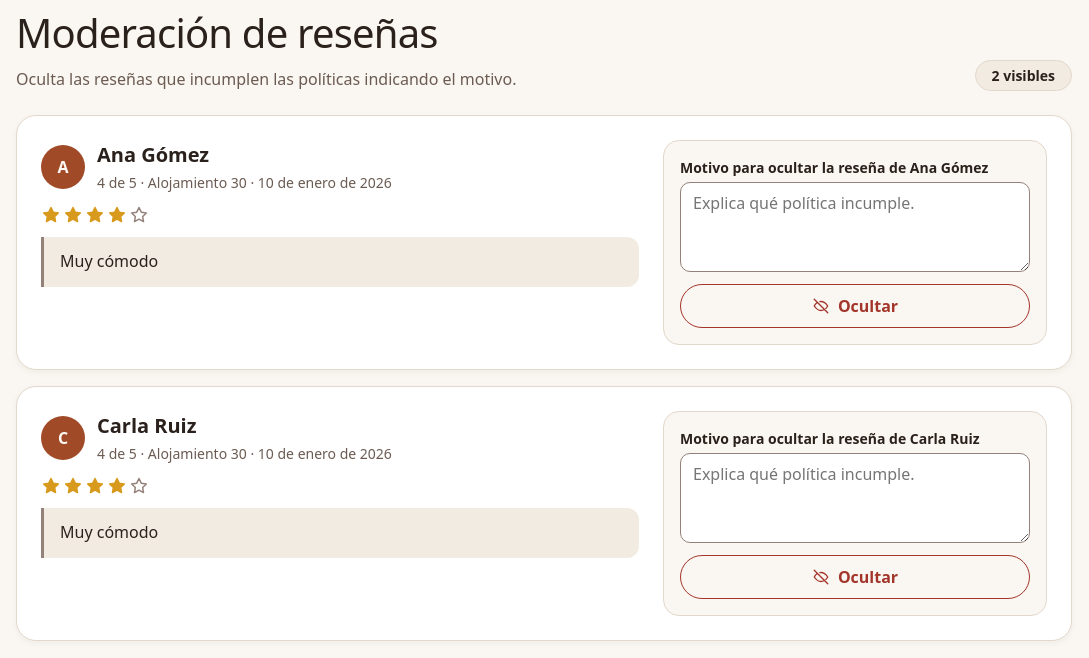
Test: ModeracionResenasPage › oculta la reseña con su motivo y la quita de la lista
This screenshot has width=1089, height=658.
Type "  Lenguaje ofensivo  " into the text box labelled "Motivo para ocultar la reseña de Ana Gómez". click: [855, 227]
box: [680, 182, 1030, 272]
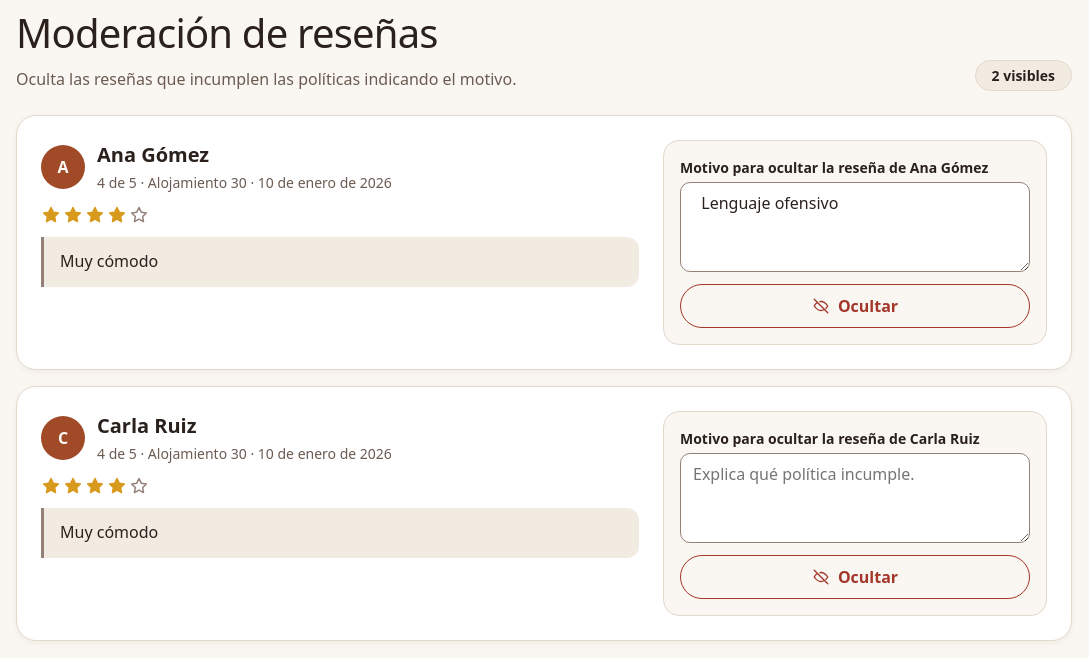
Click the button with aria-label "Ocultar la reseña de Ana Gómez". click: [855, 306]
box: [680, 284, 1030, 328]
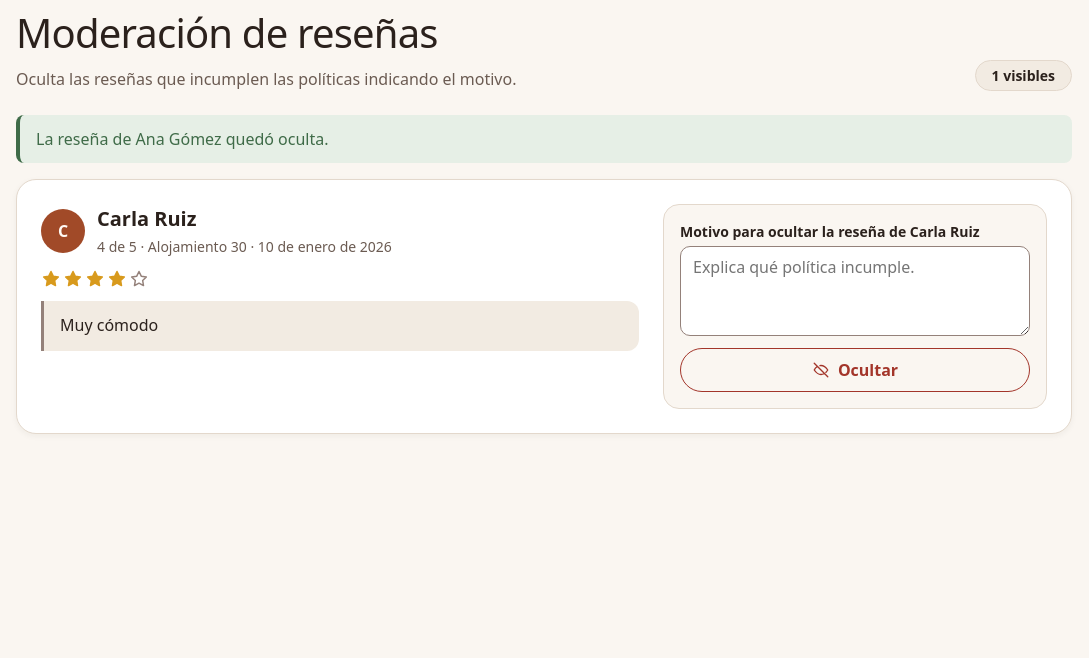
Expected: the heading "Carla Ruiz" is shown, [97, 205, 196, 232]
Expected: the text "La reseña de Ana Gómez quedó oculta." is shown, [16, 115, 1072, 163]
